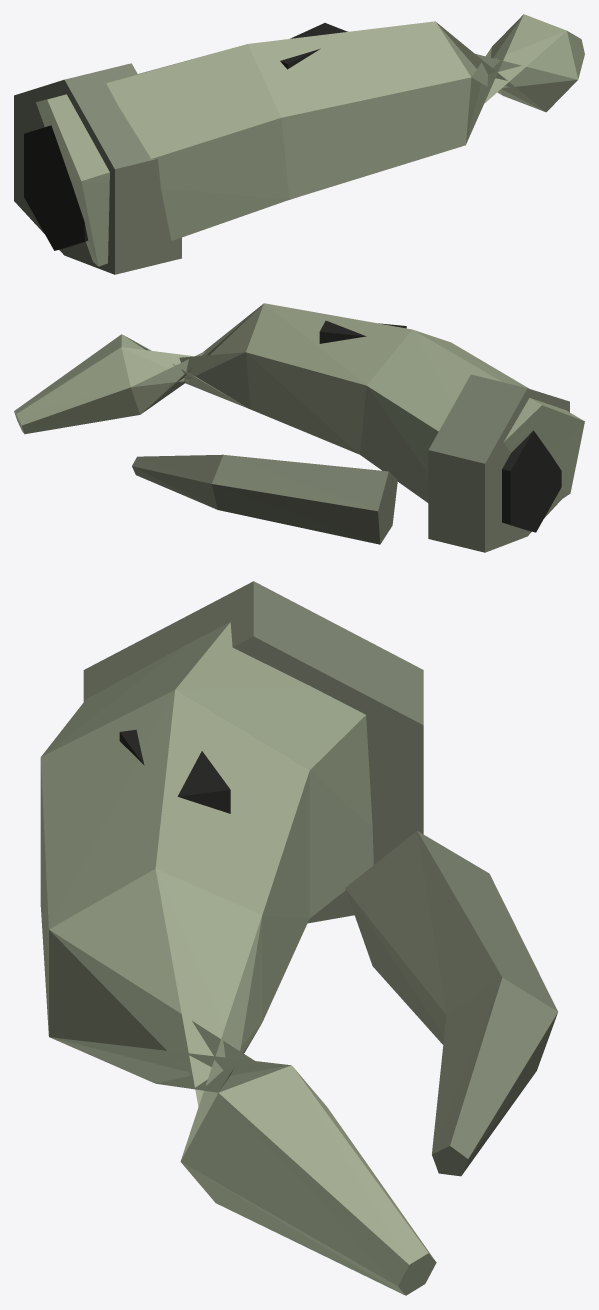
Rendered from ancient_tunneler_claw_2.obj.
3 views of the same model, one above another, from view 1: azimuth 30°, elevation 25°; view 2: azimuth 150°, elevation 25°; view 3: azimuth 270°, elevation 25° (orthographic). The views are drawn at different scales.
Parts seen in each view (by area): view 1: ancient_tunneler_claw_2; view 2: ancient_tunneler_claw_2; view 3: ancient_tunneler_claw_2.
Boxes of the visible parts, x1,y1,x2,y2 form: ancient_tunneler_claw_2: (14, 14, 584, 274); ancient_tunneler_claw_2: (14, 303, 584, 552); ancient_tunneler_claw_2: (40, 581, 557, 1295).
Bounding box in the file's own units: 1.75 × 0.5388 × 0.791.
